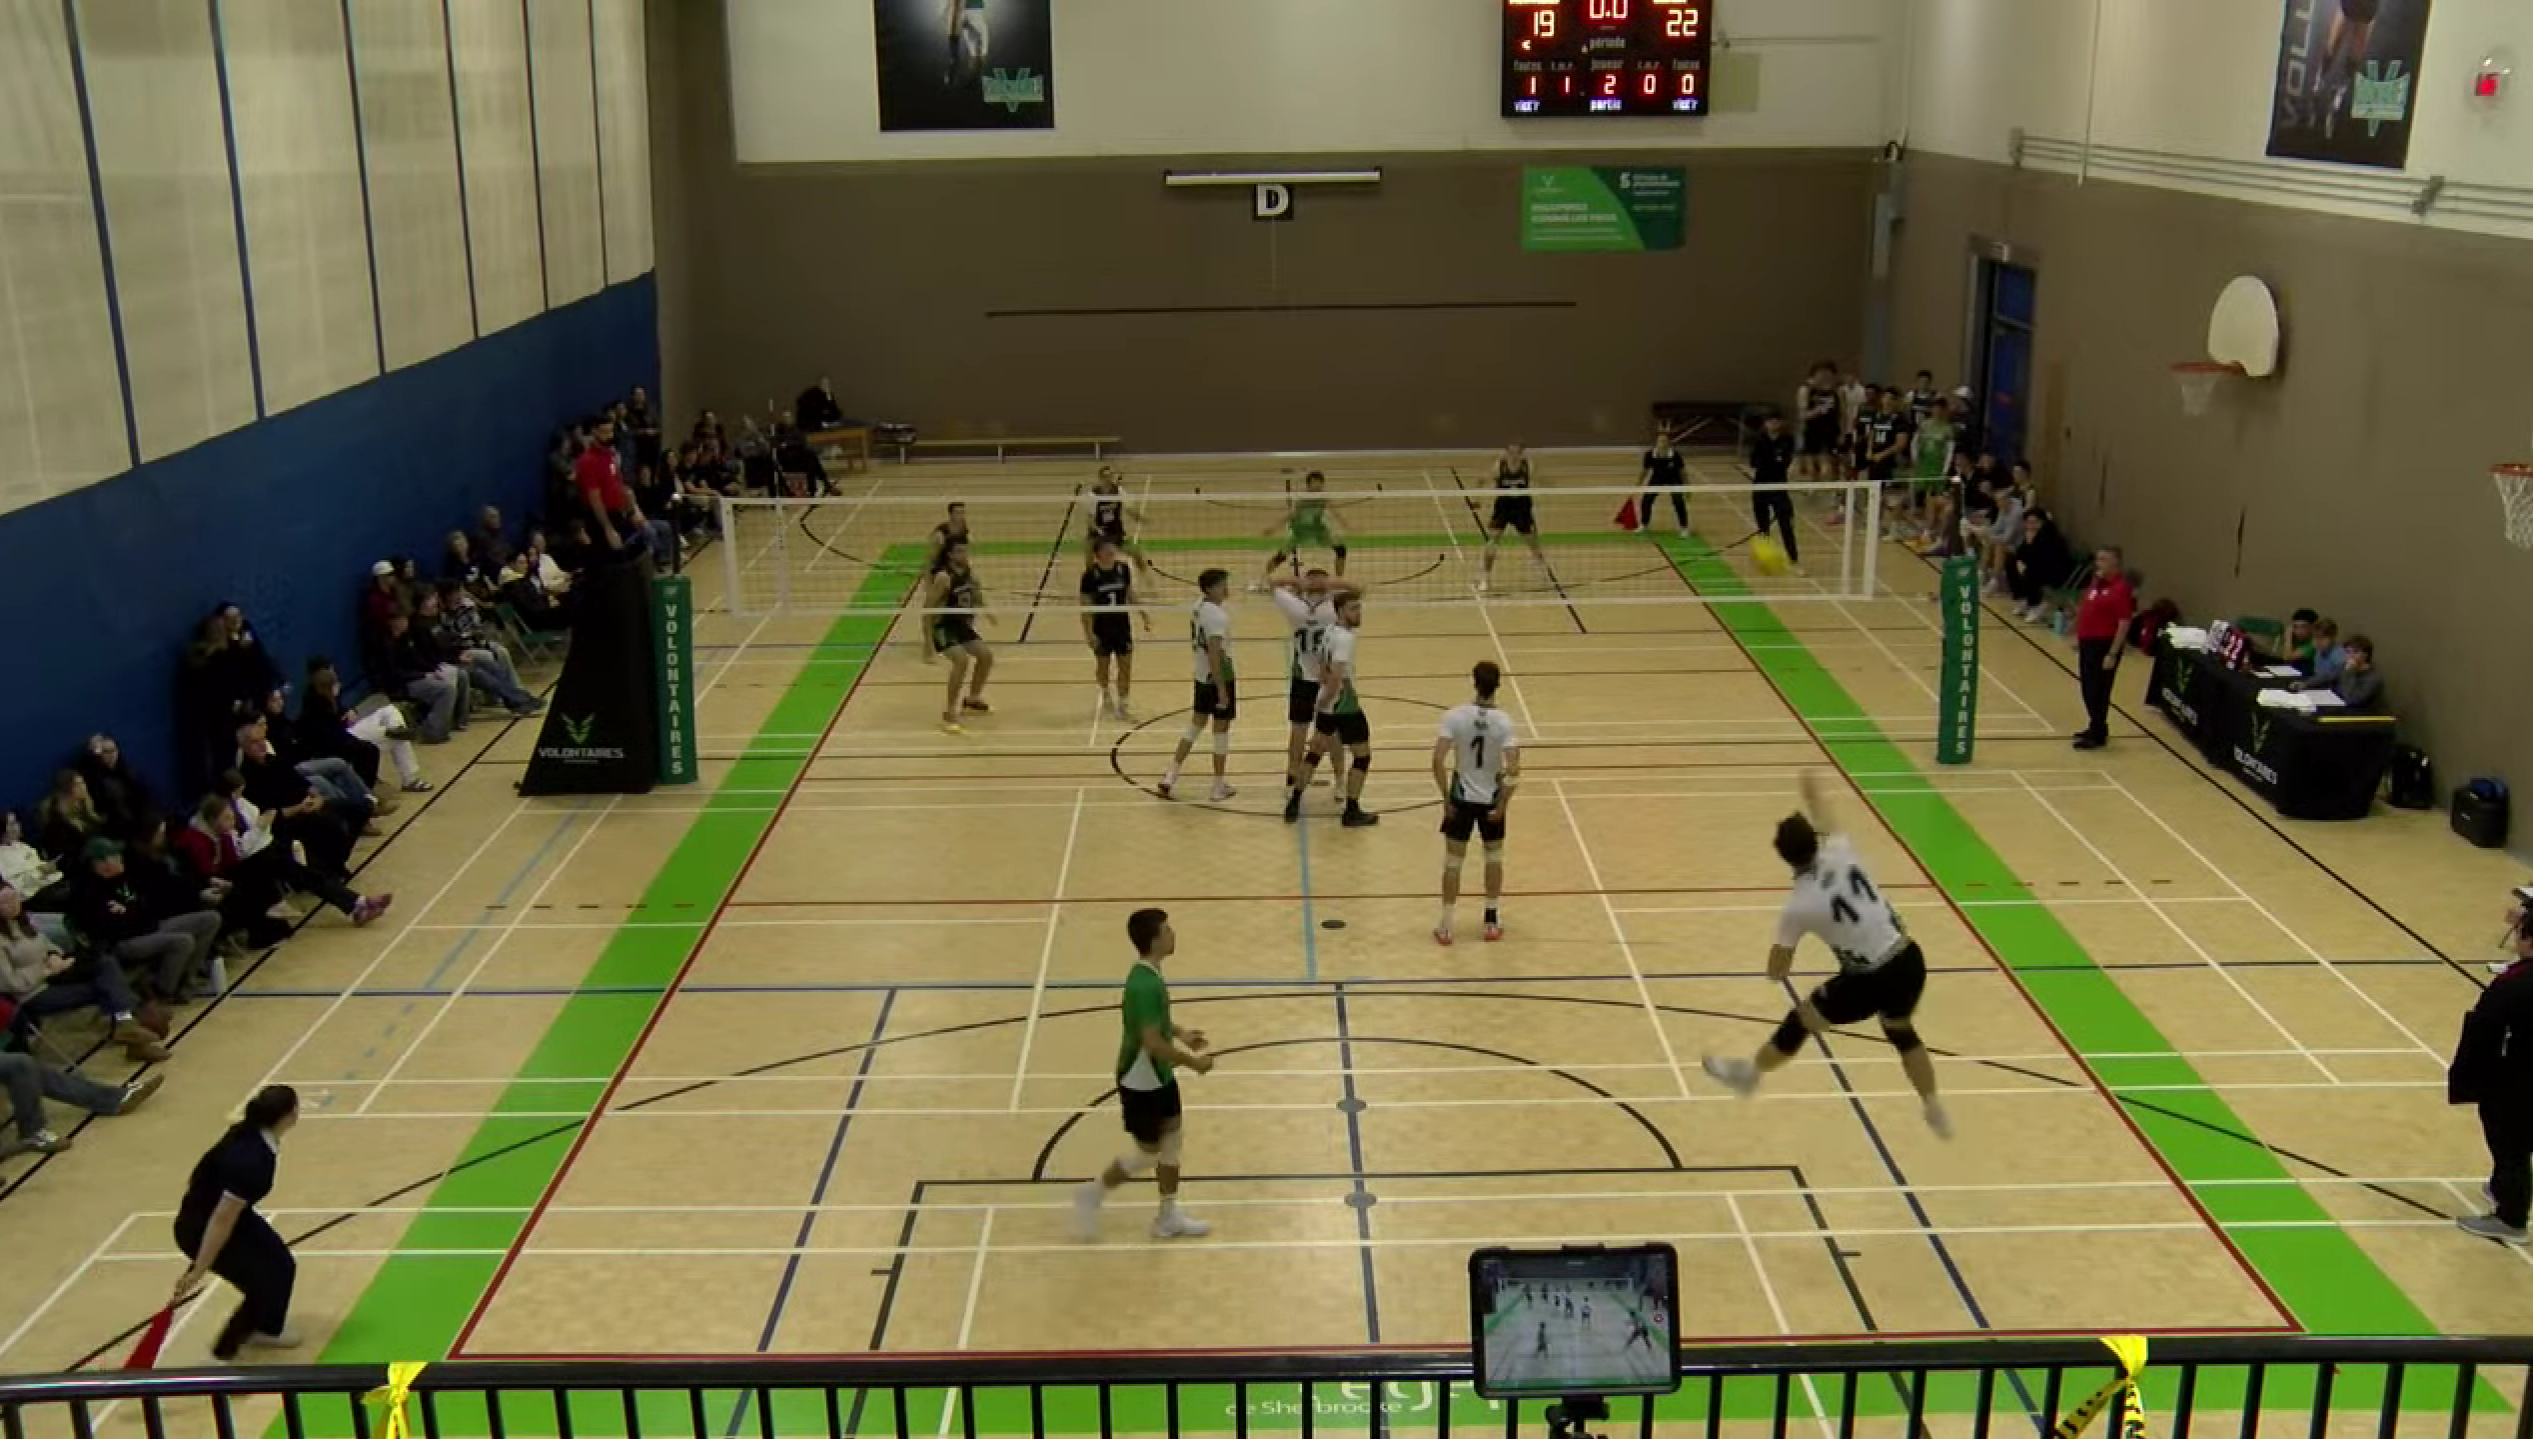Ball: (1745, 531, 1792, 579)
